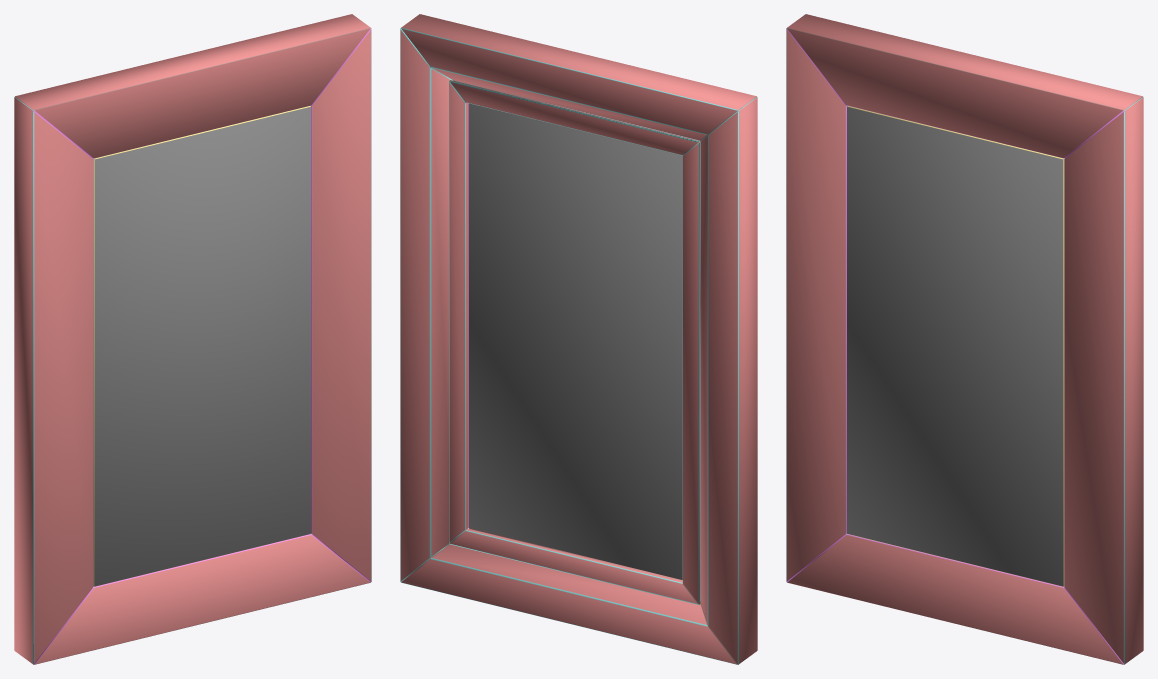
The model's file is mirror.gltf.
3 views of the same model, side by side, from view 1: azimuth 30°, elevation 25°; view 2: azimuth 150°, elevation 25°; view 3: azimuth 330°, elevation 25° (orthographic).
Parts seen in each view (by area): view 1: mirror; view 2: mirror; view 3: mirror.
Boxes of the visible parts, x1,y1,x2,y2 form: mirror: (14, 14, 371, 664); mirror: (400, 14, 757, 664); mirror: (786, 14, 1143, 664).
Size of the model in its own units: 1.14 by 1.79 by 0.1143.
